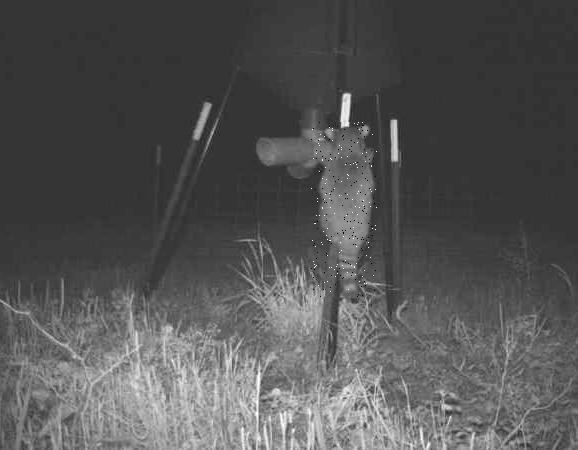Raccoon: (310, 122, 376, 297)
